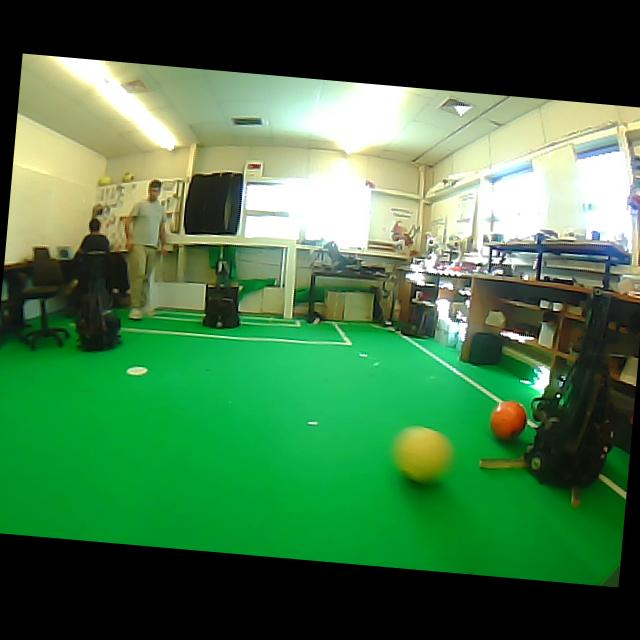ball: (393, 426, 451, 482), (489, 400, 526, 440), (97, 174, 112, 185), (121, 171, 134, 182)
goal: (282, 241, 296, 318)
robot: (524, 290, 613, 486), (76, 292, 121, 350), (203, 257, 239, 328)
